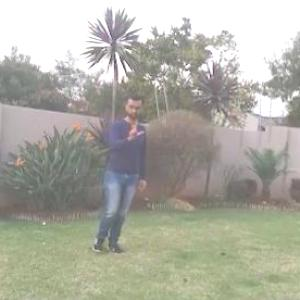land_hand: (125, 114, 147, 144)
